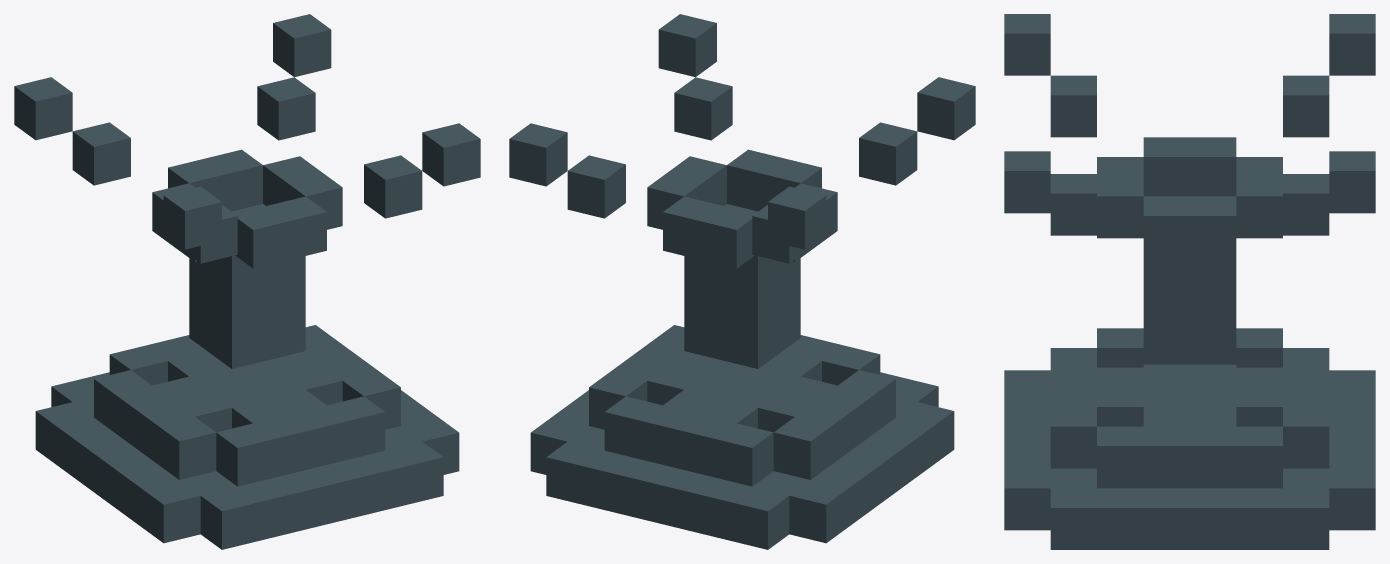
File: Terminal1-2.obj
3 views of the same model, side by side, from view 1: azimuth 30°, elevation 25°; view 2: azimuth 150°, elevation 25°; view 3: azimuth 270°, elevation 25° (orthographic). The views are drawn at different scales.
Bounding box in the file's own units: 0.8 × 0.9 × 0.8.
1 material, 1 textured.
